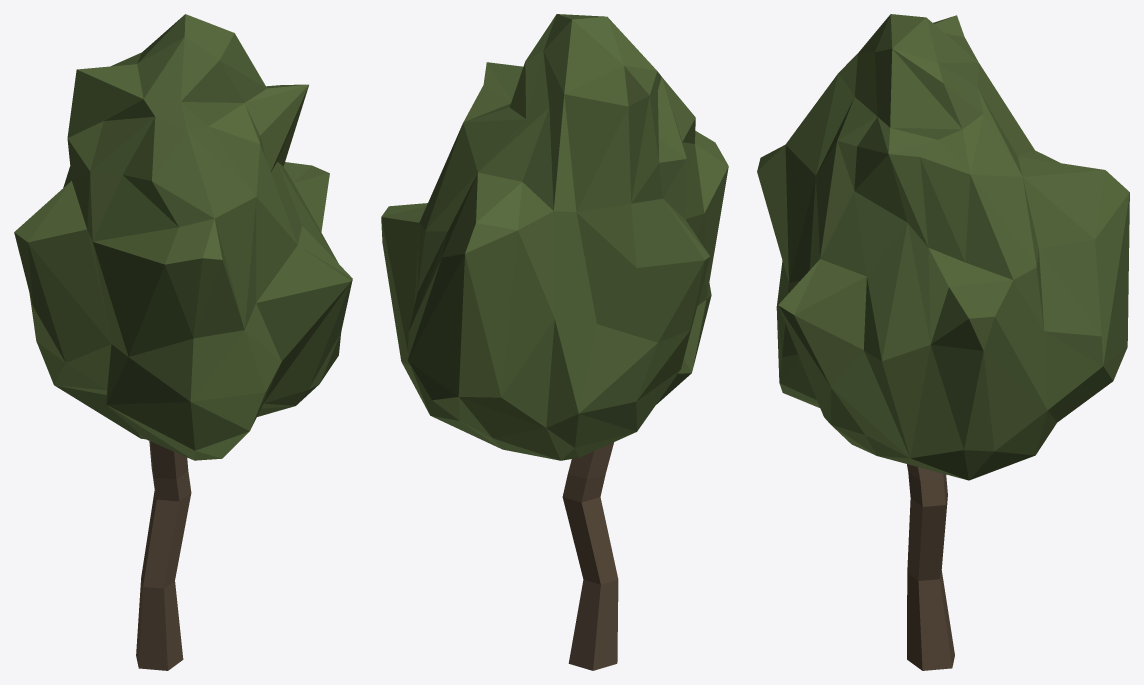
Rendered from tree_081.fbx.
3 renders of one model, left to right at view 1: azimuth 30°, elevation 25°; view 2: azimuth 150°, elevation 25°; view 3: azimuth 270°, elevation 25°, orthographic. The views are drawn at different scales.
Visible parts, largest first — view 1: tree_081; view 2: tree_081; view 3: tree_081.
Part boxes in pixels (box(x1,y1,x2,y2)): tree_081: box(14, 14, 352, 670); tree_081: box(381, 14, 728, 670); tree_081: box(757, 14, 1129, 670).
Bounding box in the file's own units: 0.9681 × 1.87 × 0.963.
1 material, 1 textured.
